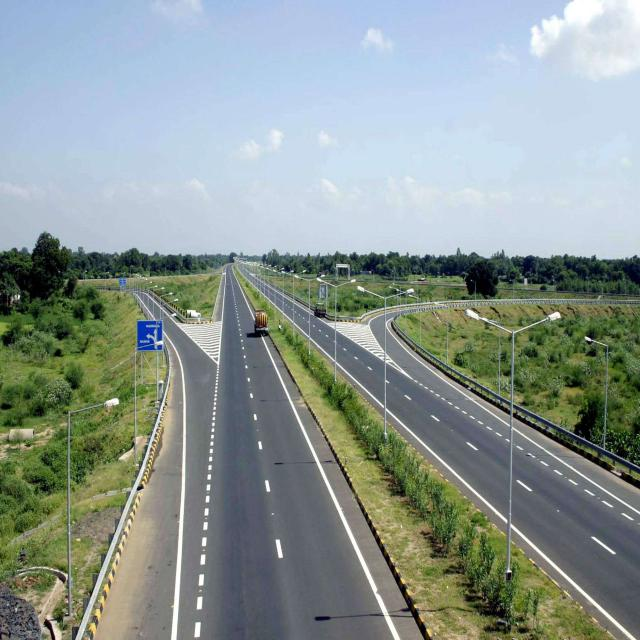Clean road: (1, 277, 640, 640)
